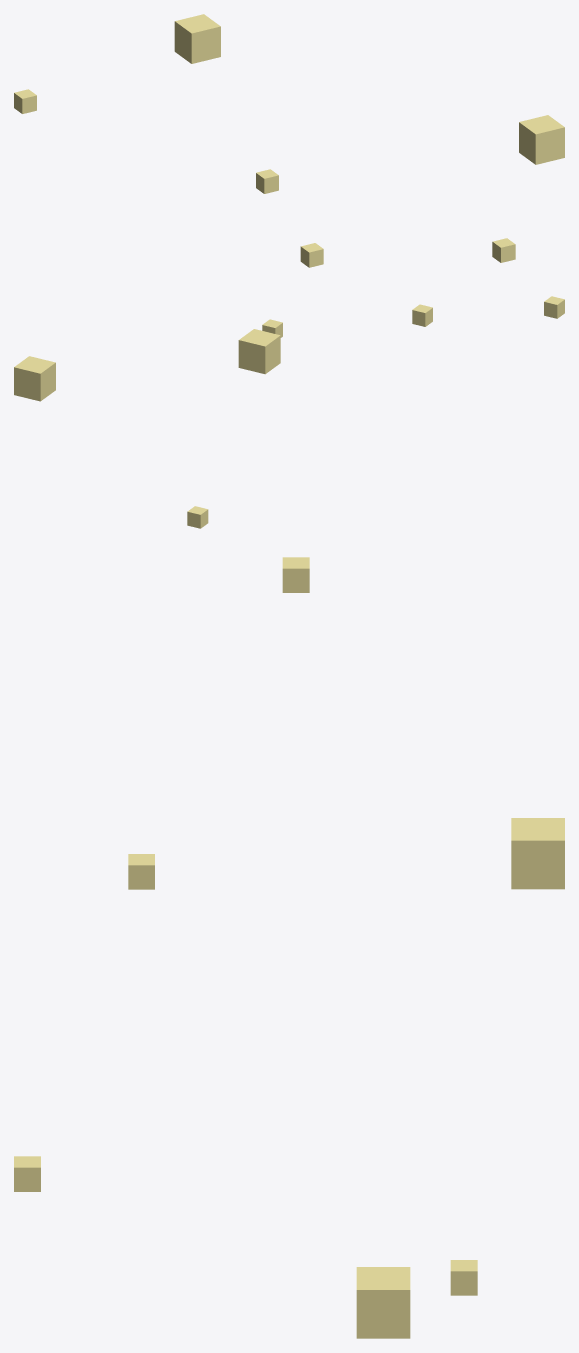
File: star_square_arrange_yellow.glb
3 renders of one model, top to bottom at view 1: azimuth 30°, elevation 25°; view 2: azimuth 150°, elevation 25°; view 3: azimuth 270°, elevation 25°, orthographic. The views are drawn at different scales.
Visible parts, largest first — view 1: block (×6); view 2: block (×5); view 3: block (×6).
Boxes of the visible parts, x1=… form: block (×6): x1=14, y1=14, x2=564, y2=267; block (×5): x1=14, y1=296, x2=564, y2=528; block (×6): x1=14, y1=557, x2=564, y2=1338.
Bounding box in the file's own units: 3.88 × 1.9 × 2.05.
